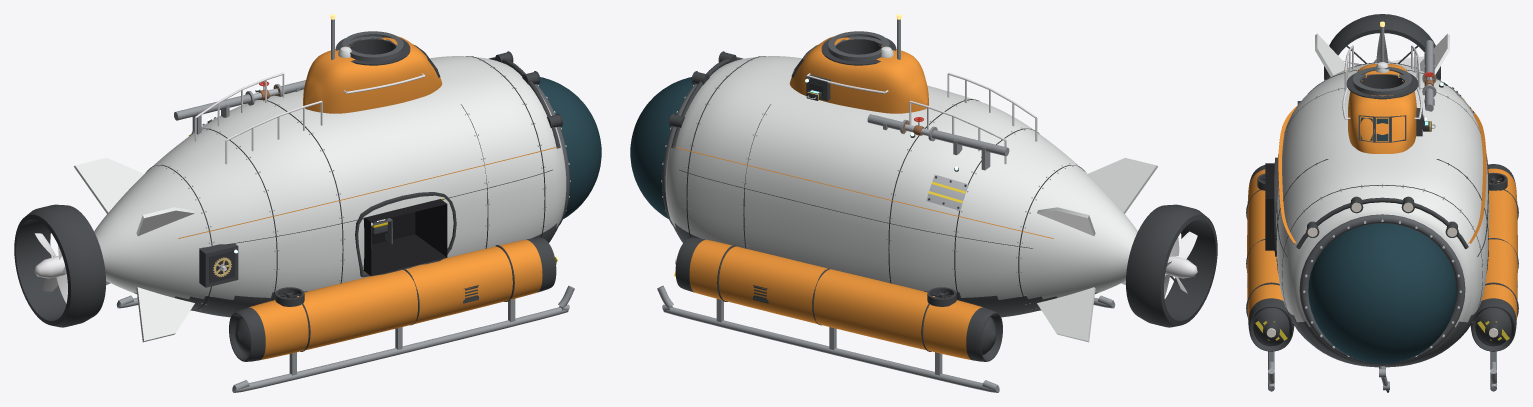
File: SM_Sub2_Repaired.fbx
3 views of the same model, side by side, from view 1: azimuth 30°, elevation 25°; view 2: azimuth 150°, elevation 25°; view 3: azimuth 270°, elevation 25° (orthographic). The views are drawn at different scales.
Visible parts, largest first — view 1: SM_Sub2_Repaired; view 2: SM_Sub2_Repaired; view 3: SM_Sub2_Repaired.
Part boxes in pixels (x1,y1,x2,y2): SM_Sub2_Repaired: [14, 14, 601, 392]; SM_Sub2_Repaired: [630, 14, 1217, 392]; SM_Sub2_Repaired: [1246, 14, 1518, 392].
Size of the model in its own units: 7.91 by 4.06 by 3.49.
